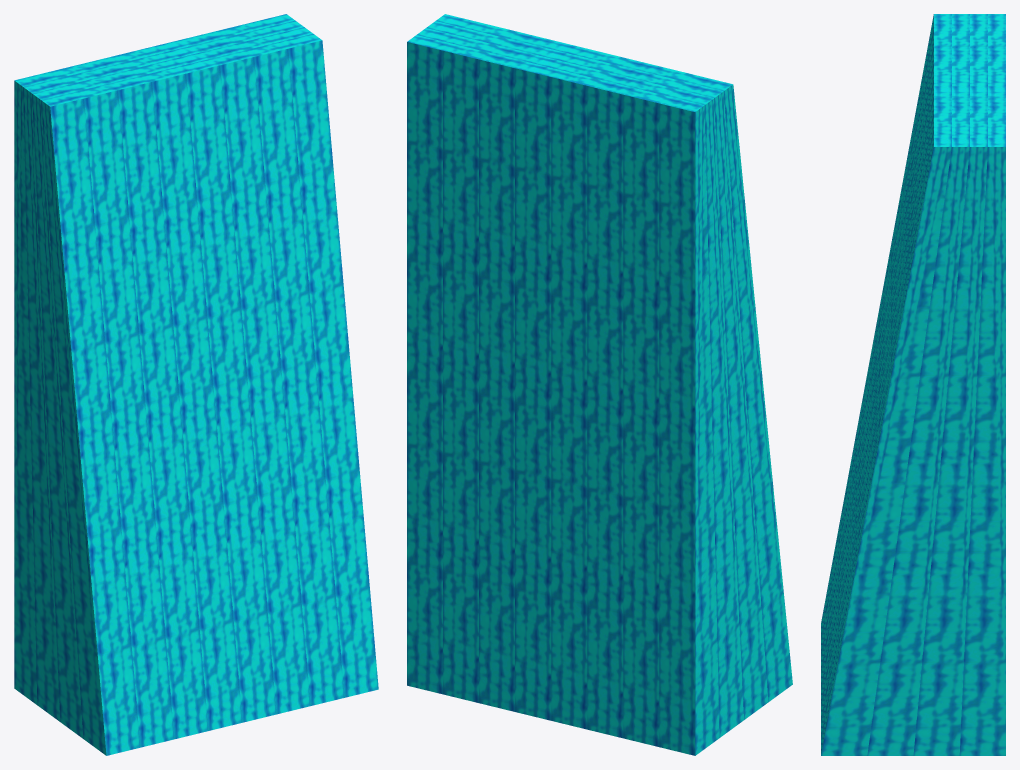
File: SM_Decoration_GreatWall_02.fbx
3 views of the same model, side by side, from view 1: azimuth 30°, elevation 25°; view 2: azimuth 150°, elevation 25°; view 3: azimuth 270°, elevation 25° (orthographic). The views are drawn at different scales.
Visible parts, largest first — view 1: SM_Decoration_GreatWall_02; view 2: SM_Decoration_GreatWall_02; view 3: SM_Decoration_GreatWall_02.
Boxes of the visible parts, x1=… form: SM_Decoration_GreatWall_02: x1=14, y1=14, x2=378, y2=755; SM_Decoration_GreatWall_02: x1=407, y1=14, x2=792, y2=755; SM_Decoration_GreatWall_02: x1=821, y1=14, x2=1005, y2=755.
Size of the model in its own units: 49.73 by 106 by 29.18.
Materials: 1 (1 with a texture image).
